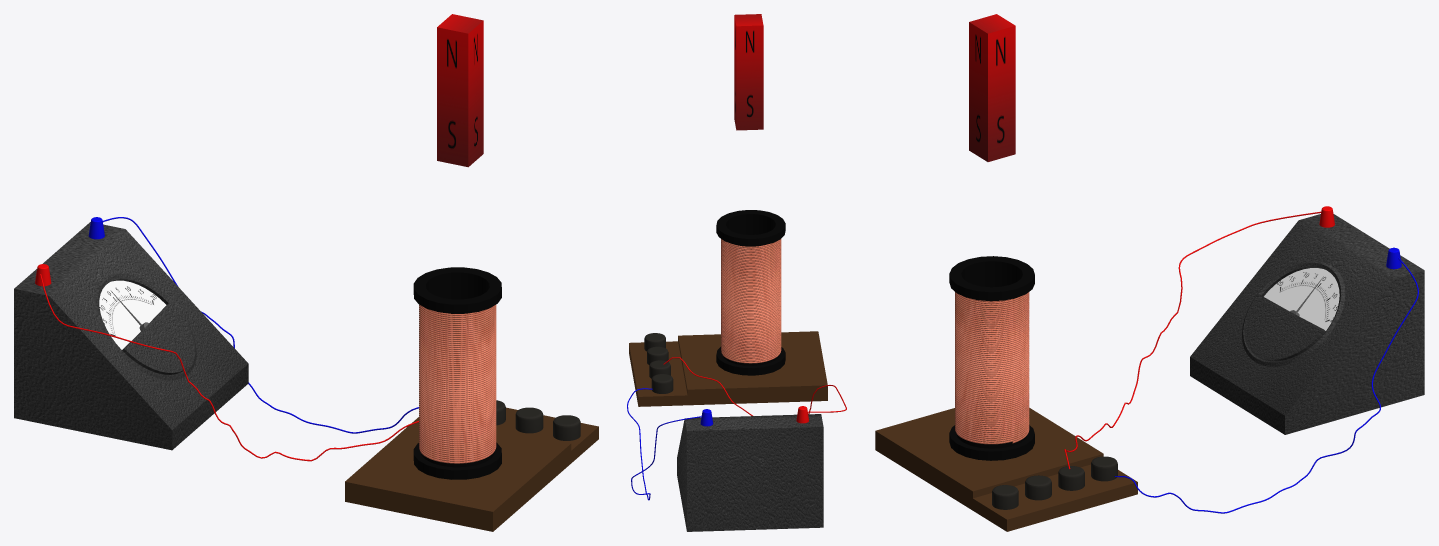
The picture shows the model from 3 angles, left to right: view 1: azimuth 30°, elevation 25°; view 2: azimuth 150°, elevation 25°; view 3: azimuth 270°, elevation 25°; orthographic projection. The views are drawn at different scales.
Parts seen in each view (by area): view 1: pCube2, pCube1, pHelix1, pCube3, pCylinder1, polySurface6, polySurface3, pCylinder3; view 2: pCube2, pCube1, pHelix1, pCube3, pCylinder1, polySurface3, pCylinder5, polySurface6, pCylinder2, pCylinder3, pCylinder4; view 3: pCube2, pCube1, pHelix1, pCube3, pCylinder1, polySurface3, polySurface6.
Part boxes in pixels (x1,y1,x2,y2): pCube2: (14, 222, 248, 450); pCube1: (345, 407, 598, 531); pHelix1: (419, 305, 496, 463); pCube3: (437, 14, 483, 167); pCylinder1: (413, 267, 501, 479); polySurface6: (40, 274, 418, 461); polySurface3: (102, 217, 418, 433); pCylinder3: (515, 407, 543, 433); pCube2: (677, 414, 823, 531); pCube1: (629, 331, 827, 406); pHelix1: (721, 239, 781, 363); pCube3: (734, 14, 763, 130); pCylinder1: (716, 210, 785, 375); polySurface3: (627, 388, 701, 500); pCylinder5: (651, 374, 673, 393); polySurface6: (663, 357, 846, 415); pCylinder2: (644, 333, 665, 351); pCylinder3: (647, 346, 668, 364); pCylinder4: (649, 360, 670, 378); pCube2: (1190, 214, 1424, 434); pCube1: (875, 407, 1137, 531); pHelix1: (955, 292, 1029, 444); pCube3: (969, 14, 1015, 161); pCylinder1: (949, 256, 1034, 460); polySurface3: (1115, 257, 1418, 513); polySurface6: (1064, 211, 1321, 468).
Size of the model in its own units: 37.46 by 43.07 by 44.4.
9 materials, 3 textured.
